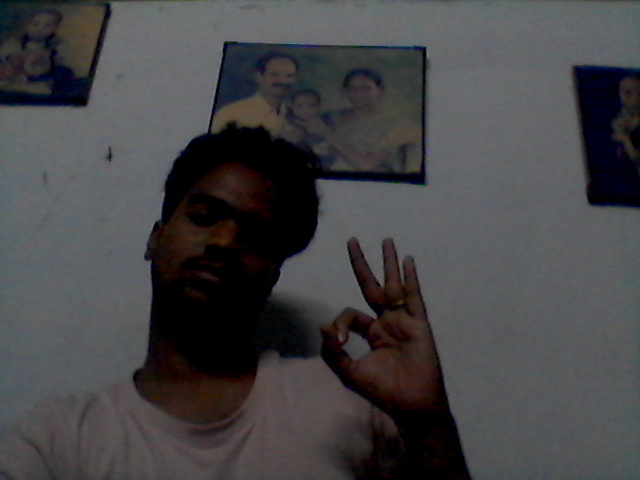Nice: (316, 232, 459, 432)
Not Ok: (314, 232, 474, 427)
